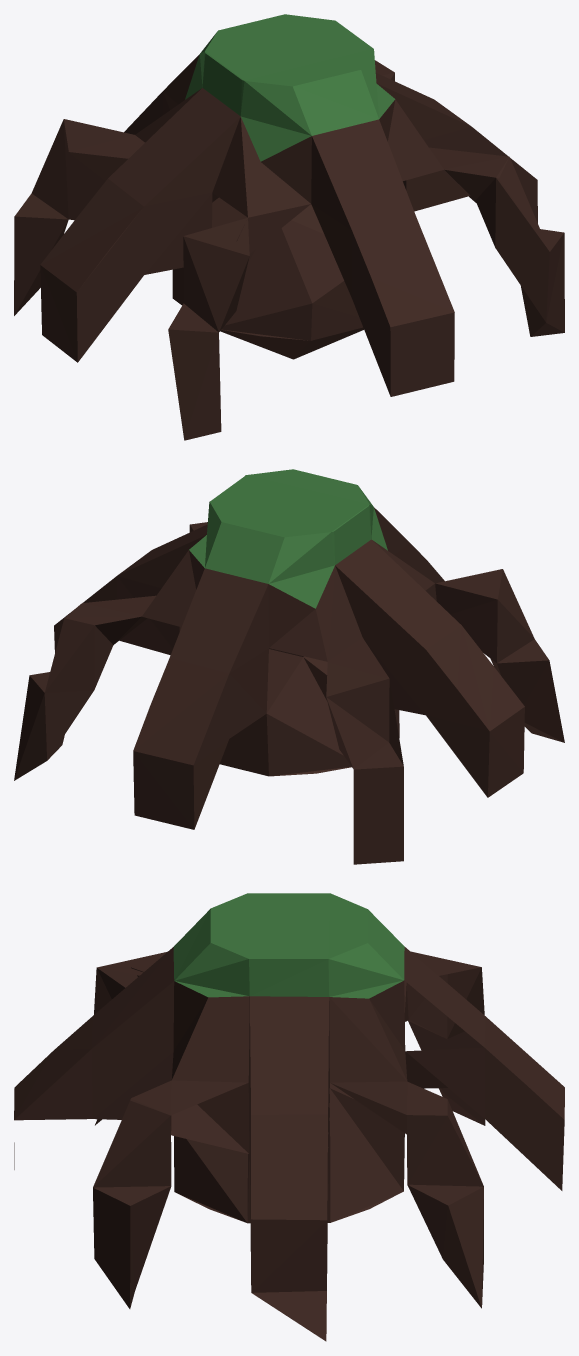
The model's file is root-tangle.glb.
3 renders of one model, top to bottom at view 1: azimuth 30°, elevation 25°; view 2: azimuth 150°, elevation 25°; view 3: azimuth 270°, elevation 25°, orthographic. The views are drawn at different scales.
Size of the model in its own units: 0.8143 by 0.4333 by 0.7625.
